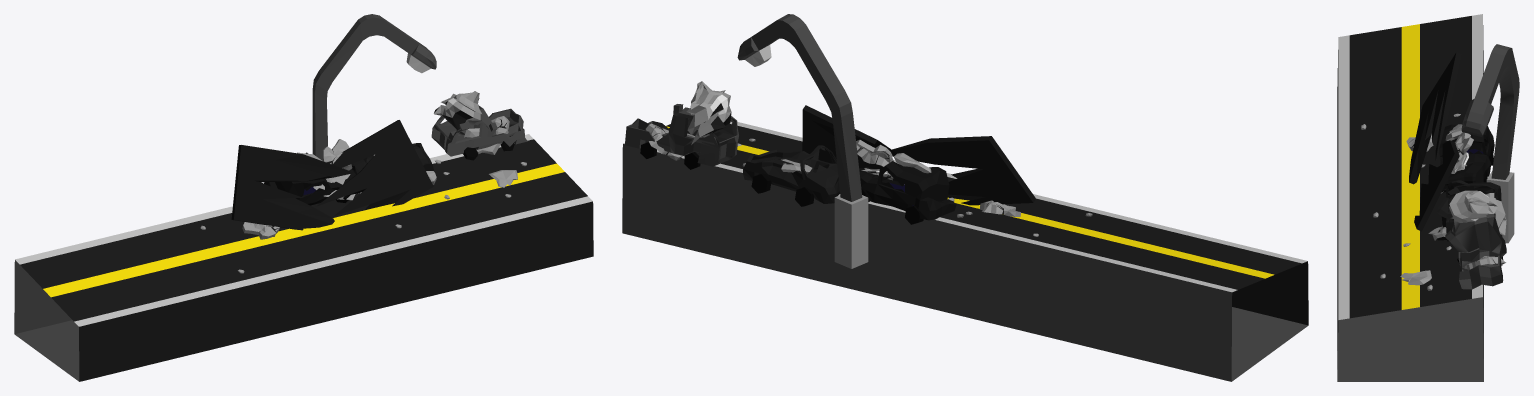
The model's file is mart@road.FBX.
The picture shows the model from 3 angles, left to right: view 1: azimuth 30°, elevation 25°; view 2: azimuth 150°, elevation 25°; view 3: azimuth 270°, elevation 25°; orthographic projection. The views are drawn at different scales.
Parts seen in each view (by area): view 1: Box026; view 2: Box026; view 3: Box026.
Part boxes in pixels (x1,y1,x2,y2): Box026: (14, 14, 593, 381); Box026: (622, 14, 1308, 381); Box026: (1337, 14, 1519, 381).
Bounding box in the file's own units: 155 × 64.46 × 42.11.
